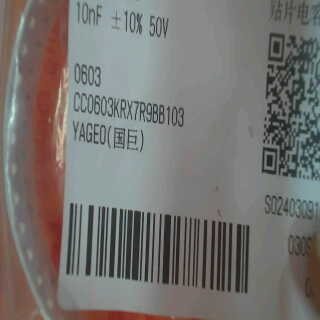10nF: (72, 1, 107, 35)
